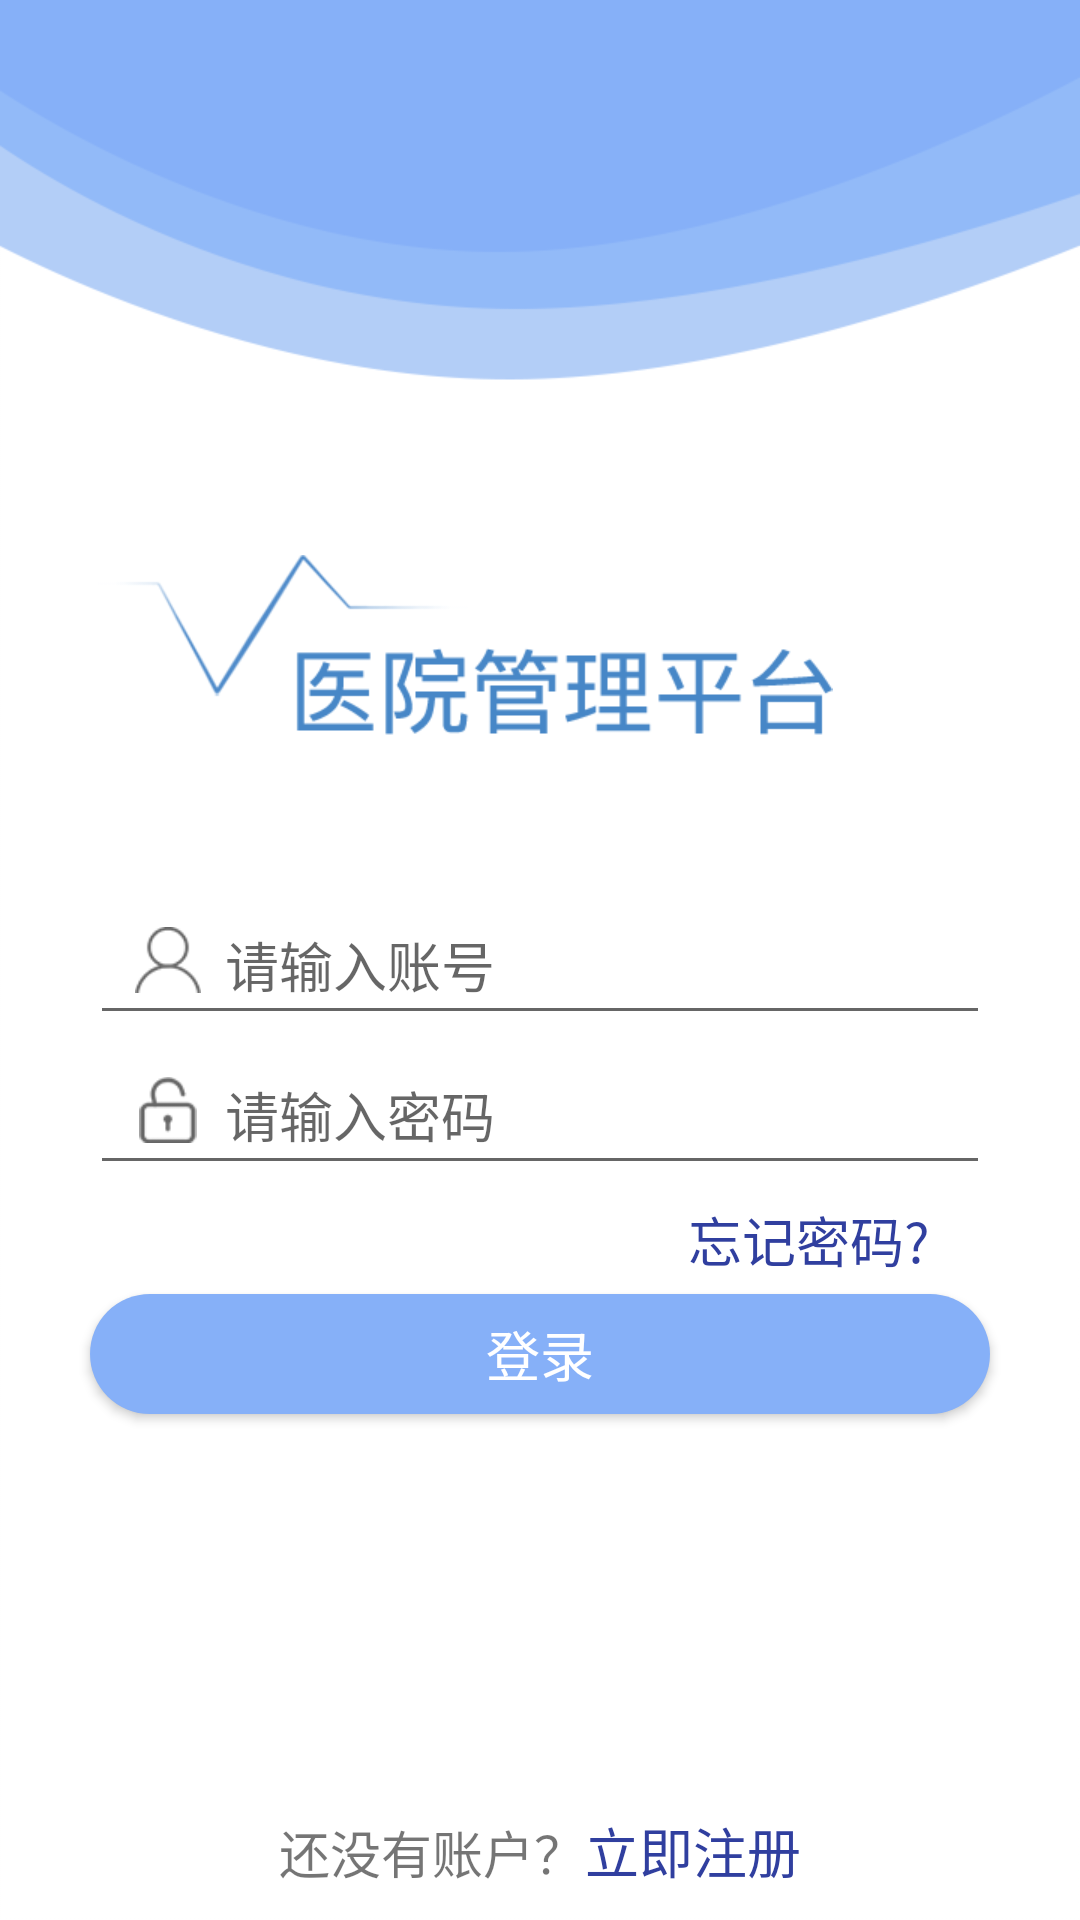

Icon bounding boxes for this 1080 x 1920 phone screenshot, format detection(x1, y1, x2, y2):
user: detection(135, 927, 201, 993)
